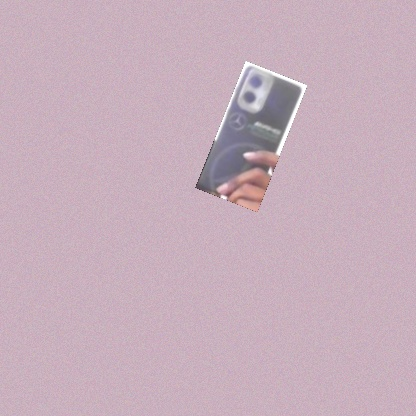cell_phone: (195, 60, 307, 212)
